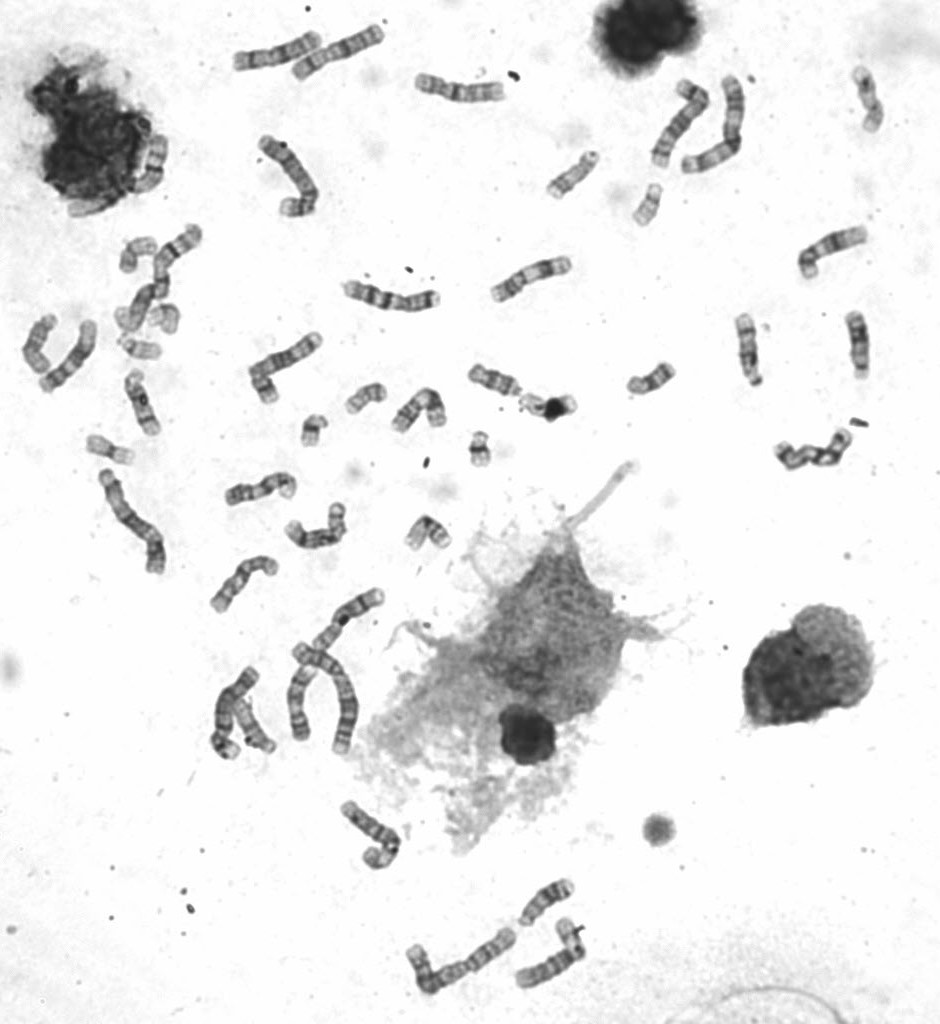chromosomes: (279, 574, 398, 745), (105, 216, 205, 336), (394, 922, 520, 1005), (675, 56, 754, 183), (91, 463, 173, 584), (291, 633, 363, 761), (507, 909, 608, 992), (287, 13, 398, 88), (792, 206, 884, 288), (243, 323, 328, 408), (638, 74, 715, 167), (251, 129, 325, 221), (200, 661, 265, 764), (214, 25, 331, 81), (335, 791, 409, 878), (484, 245, 587, 307), (767, 415, 865, 480), (406, 56, 515, 111), (35, 310, 103, 396), (203, 550, 290, 616), (508, 863, 584, 934), (722, 294, 773, 394), (328, 274, 445, 316), (543, 134, 604, 207), (835, 298, 882, 392), (282, 491, 352, 553), (230, 690, 288, 764), (845, 58, 896, 142), (616, 350, 690, 405), (118, 367, 171, 440), (219, 467, 301, 512), (14, 309, 66, 378), (389, 384, 451, 440), (519, 385, 593, 429), (79, 423, 144, 473), (395, 509, 459, 556), (114, 224, 161, 283), (464, 356, 524, 402), (132, 138, 171, 197), (65, 185, 128, 220), (627, 177, 668, 229), (291, 406, 335, 453), (340, 380, 391, 420), (147, 299, 183, 347), (115, 332, 167, 364), (467, 428, 494, 472)
